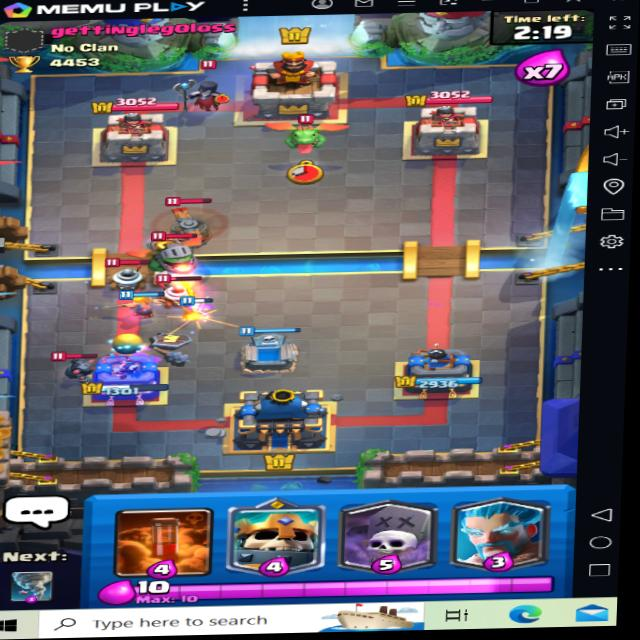baby-dragon: (266, 113, 343, 157)
flying-machine: (150, 200, 223, 259)
inferno-dragon: (140, 224, 196, 283)
mini-pekka: (49, 352, 105, 385)
night-witch: (181, 60, 230, 114)
zappie: (156, 271, 204, 307), (104, 259, 155, 289)
